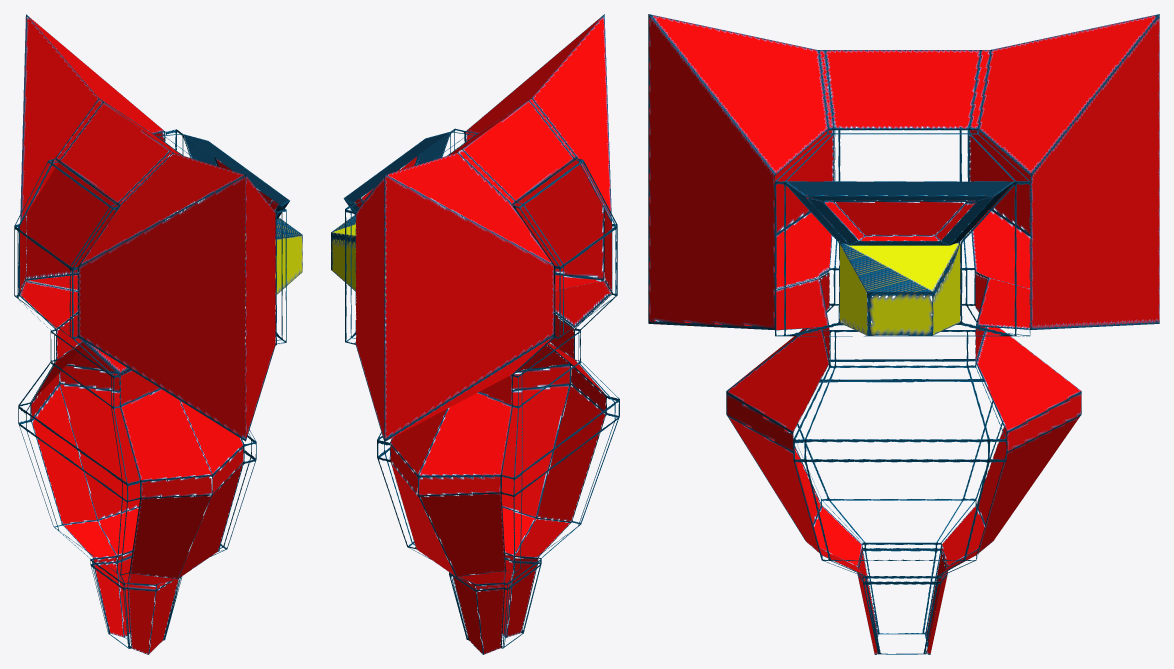
File: KillerDrone.fbx
3 renders of one model, left to right at view 1: azimuth 30°, elevation 25°; view 2: azimuth 150°, elevation 25°; view 3: azimuth 270°, elevation 25°, orthographic. The views are drawn at different scales.
Parts seen in each view (by area): view 1: Cube; view 2: Cube; view 3: Cube.
Boxes of the visible parts, bbox=[...] form: Cube: bbox=[14, 14, 302, 654]; Cube: bbox=[331, 14, 619, 654]; Cube: bbox=[648, 14, 1159, 654].
Size of the model in its own units: 2.12 by 4.58 by 3.31.
1 material, 1 textured.
